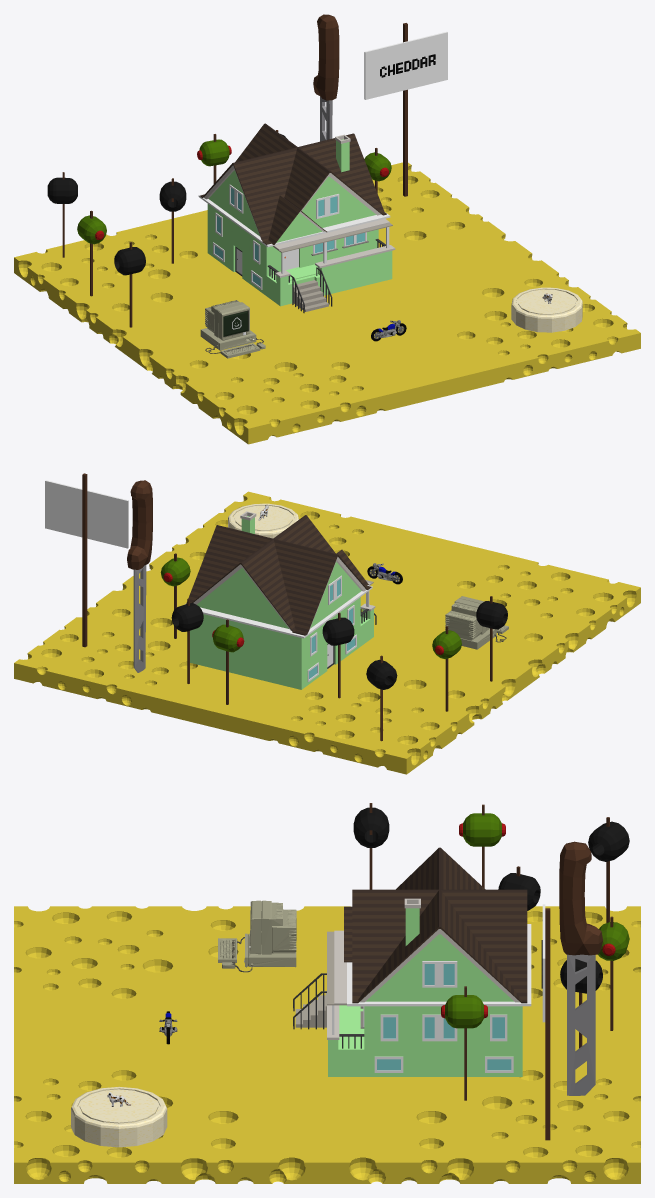
3 renders of one model, top to bottom at view 1: azimuth 30°, elevation 25°; view 2: azimuth 150°, elevation 25°; view 3: azimuth 270°, elevation 25°, orthographic. The views are drawn at different scales.
Parts seen in each view (by area): view 1: Cube.022, Cube.274, Cube.023, Cylinder.016, OBJRANDOM_RETRO_PC, Cube.024, Sphere.017, Sphere.016, Sphere.020, Sphere.018, Sphere.022, Sphere.019; view 2: Cube.022, Cube.274, Cube.023, Cube.024, OBJRANDOM_RETRO_PC, Cylinder.016, Sphere.017, Sphere.020, Sphere.021, Sphere.016, Sphere.018, Sphere.022 (+2 smaller); view 3: Cube.022, Cube.274, Cube.024, Cylinder.016, OBJRANDOM_RETRO_PC, Cube.023, Sphere.019, Sphere.016, Sphere.018, Sphere.017, Sphere.022, Sphere.020 (+1 smaller).
Part boxes in pixels (left/top/right/bottom): Cube.022: left=14, top=162, right=640, bottom=444; Cube.274: left=198, top=123, right=395, bottom=313; Cube.023: left=364, top=23, right=447, bottom=196; Cylinder.016: left=511, top=287, right=582, bottom=332; OBJRANDOM_RETRO_PC: left=200, top=300, right=265, bottom=358; Cube.024: left=313, top=14, right=339, bottom=141; Sphere.017: left=114, top=242, right=145, bottom=327; Sphere.016: left=47, top=172, right=77, bottom=257; Sphere.020: left=159, top=178, right=186, bottom=263; Sphere.018: left=77, top=210, right=106, bottom=296; Sphere.022: left=197, top=134, right=231, bottom=183; Sphere.019: left=364, top=148, right=391, bottom=192; Cube.022: left=14, top=491, right=640, bottom=774; Cube.274: left=185, top=511, right=376, bottom=689; Cube.023: left=45, top=473, right=128, bottom=647; Cube.024: left=127, top=480, right=152, bottom=672; OBJRANDOM_RETRO_PC: left=445, top=596, right=508, bottom=649; Cylinder.016: left=228, top=503, right=298, bottom=538; Sphere.017: left=476, top=596, right=507, bottom=681; Sphere.020: left=322, top=612, right=354, bottom=698; Sphere.021: left=171, top=598, right=203, bottom=683; Sphere.016: left=366, top=655, right=397, bottom=741; Sphere.018: left=432, top=626, right=461, bottom=711; Sphere.022: left=212, top=619, right=244, bottom=704; Cube.022: left=14, top=906, right=640, bottom=1183; Cube.274: left=293, top=847, right=531, bottom=1076; Cube.024: left=559, top=841, right=602, bottom=1095; Cylinder.016: left=71, top=1086, right=167, bottom=1147; OBJRANDOM_RETRO_PC: left=218, top=900, right=296, bottom=972; Cube.023: left=541, top=904, right=550, bottom=1140; Sphere.019: left=441, top=986, right=487, bottom=1100; Sphere.016: left=588, top=817, right=629, bottom=922; Sphere.018: left=459, top=804, right=505, bottom=887; Sphere.017: left=353, top=803, right=389, bottom=889; Sphere.022: left=598, top=916, right=629, bottom=1030; Sphere.020: left=498, top=866, right=540, bottom=910.
Size of the model in its own units: 3917 by 2010 by 4000.
Materials: 35 (3 with a texture image).
